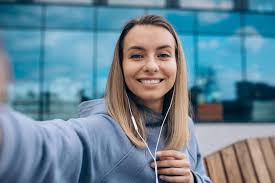Human_Female: (106, 18, 187, 183)
